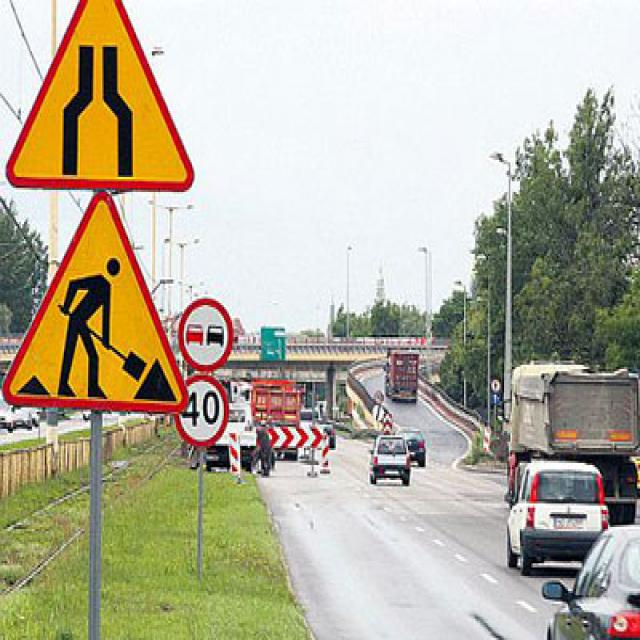Zakaz wyprzedzania: (176, 294, 234, 374)
